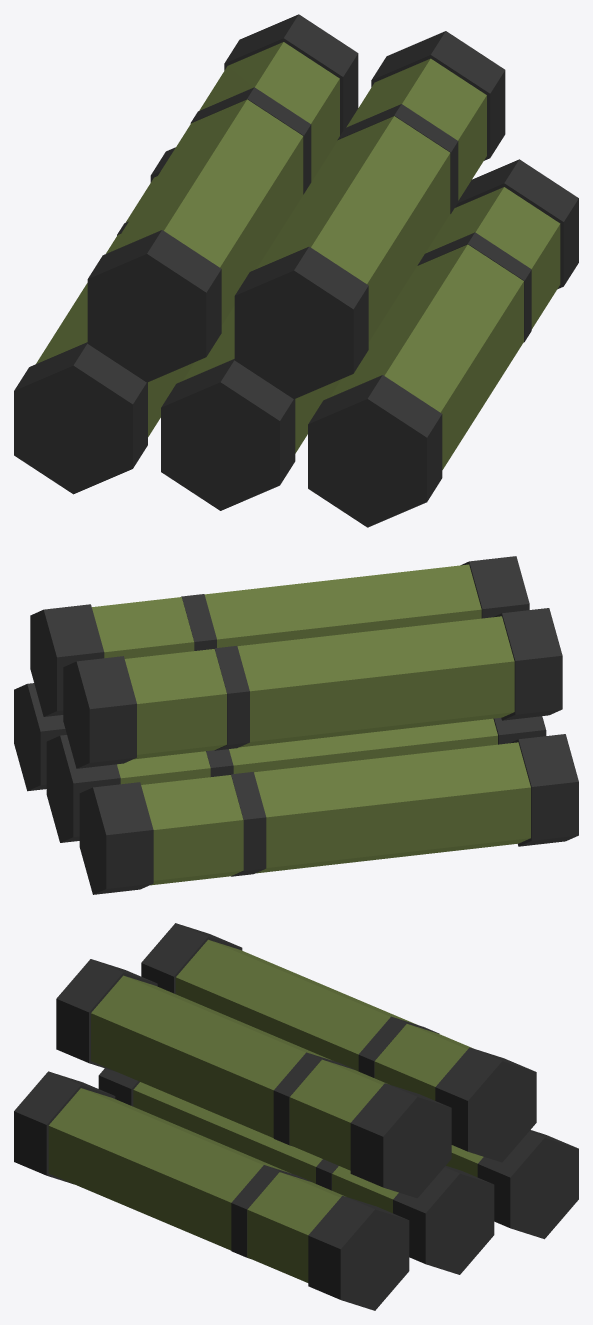
File: ce_ammo2_rpg32_thermo_c.obj
The picture shows the model from 3 angles, top to bottom: view 1: azimuth 30°, elevation 25°; view 2: azimuth 150°, elevation 25°; view 3: azimuth 270°, elevation 25°; orthographic projection. The views are drawn at different scales.
Visible parts, largest first — view 1: ce_ammo2_rpg32_thermo_c_21, ce_ammo2_rpg32_thermo_c_16, ce_ammo2_rpg32_thermo_c_11, ce_ammo2_rpg32_thermo_c_10, ce_ammo2_rpg32_thermo_c_20, ce_ammo2_rpg32_thermo_c_15, ce_ammo2_rpg32_thermo_c_5, ce_ammo2_rpg32_thermo_c_0, ce_ammo2_rpg32_thermo_c_23, ce_ammo2_rpg32_thermo_c_18, ce_ammo2_rpg32_thermo_c_13, ce_ammo2_rpg32_thermo_c_24 (+7 smaller); view 2: ce_ammo2_rpg32_thermo_c_16, ce_ammo2_rpg32_thermo_c_1, ce_ammo2_rpg32_thermo_c_21, ce_ammo2_rpg32_thermo_c_3, ce_ammo2_rpg32_thermo_c_18, ce_ammo2_rpg32_thermo_c_4, ce_ammo2_rpg32_thermo_c_19, ce_ammo2_rpg32_thermo_c_6, ce_ammo2_rpg32_thermo_c_15, ce_ammo2_rpg32_thermo_c_0, ce_ammo2_rpg32_thermo_c_24, ce_ammo2_rpg32_thermo_c_23 (+9 smaller); view 3: ce_ammo2_rpg32_thermo_c_11, ce_ammo2_rpg32_thermo_c_21, ce_ammo2_rpg32_thermo_c_16, ce_ammo2_rpg32_thermo_c_24, ce_ammo2_rpg32_thermo_c_14, ce_ammo2_rpg32_thermo_c_19, ce_ammo2_rpg32_thermo_c_9, ce_ammo2_rpg32_thermo_c_4, ce_ammo2_rpg32_thermo_c_13, ce_ammo2_rpg32_thermo_c_23, ce_ammo2_rpg32_thermo_c_6, ce_ammo2_rpg32_thermo_c_18 (+9 smaller).
Part boxes in pixels (x1,y1,x2,y2): ce_ammo2_rpg32_thermo_c_21: [256, 116, 450, 341]; ce_ammo2_rpg32_thermo_c_16: [110, 99, 303, 325]; ce_ammo2_rpg32_thermo_c_11: [330, 244, 523, 469]; ce_ammo2_rpg32_thermo_c_10: [308, 375, 442, 527]; ce_ammo2_rpg32_thermo_c_20: [234, 246, 368, 399]; ce_ammo2_rpg32_thermo_c_15: [87, 230, 221, 382]; ce_ammo2_rpg32_thermo_c_5: [161, 359, 295, 510]; ce_ammo2_rpg32_thermo_c_0: [14, 342, 147, 494]; ce_ammo2_rpg32_thermo_c_23: [346, 58, 486, 200]; ce_ammo2_rpg32_thermo_c_18: [199, 42, 339, 181]; ce_ammo2_rpg32_thermo_c_13: [425, 187, 560, 329]; ce_ammo2_rpg32_thermo_c_24: [371, 31, 505, 160]; ce_ammo2_rpg32_thermo_c_16: [237, 616, 514, 747]; ce_ammo2_rpg32_thermo_c_1: [254, 742, 530, 873]; ce_ammo2_rpg32_thermo_c_21: [204, 564, 481, 647]; ce_ammo2_rpg32_thermo_c_3: [141, 775, 243, 885]; ce_ammo2_rpg32_thermo_c_18: [124, 649, 226, 759]; ce_ammo2_rpg32_thermo_c_4: [79, 782, 153, 894]; ce_ammo2_rpg32_thermo_c_19: [63, 656, 136, 768]; ce_ammo2_rpg32_thermo_c_6: [229, 718, 497, 773]; ce_ammo2_rpg32_thermo_c_15: [493, 608, 562, 720]; ce_ammo2_rpg32_thermo_c_0: [510, 734, 578, 846]; ce_ammo2_rpg32_thermo_c_24: [30, 604, 104, 716]; ce_ammo2_rpg32_thermo_c_23: [92, 597, 194, 658]; ce_ammo2_rpg32_thermo_c_11: [48, 1088, 290, 1250]; ce_ammo2_rpg32_thermo_c_21: [91, 975, 331, 1137]; ce_ammo2_rpg32_thermo_c_16: [175, 939, 416, 1071]; ce_ammo2_rpg32_thermo_c_24: [350, 1083, 451, 1198]; ce_ammo2_rpg32_thermo_c_14: [308, 1195, 409, 1310]; ce_ammo2_rpg32_thermo_c_19: [435, 1047, 536, 1162]; ce_ammo2_rpg32_thermo_c_9: [393, 1166, 494, 1274]; ce_ammo2_rpg32_thermo_c_4: [477, 1130, 578, 1239]; ce_ammo2_rpg32_thermo_c_13: [247, 1172, 345, 1282]; ce_ammo2_rpg32_thermo_c_23: [289, 1059, 387, 1170]; ce_ammo2_rpg32_thermo_c_6: [133, 1082, 322, 1183]; ce_ammo2_rpg32_thermo_c_18: [374, 1024, 471, 1100].
Bounding box in the file's own units: 0.8556 × 0.3276 × 0.8556.
